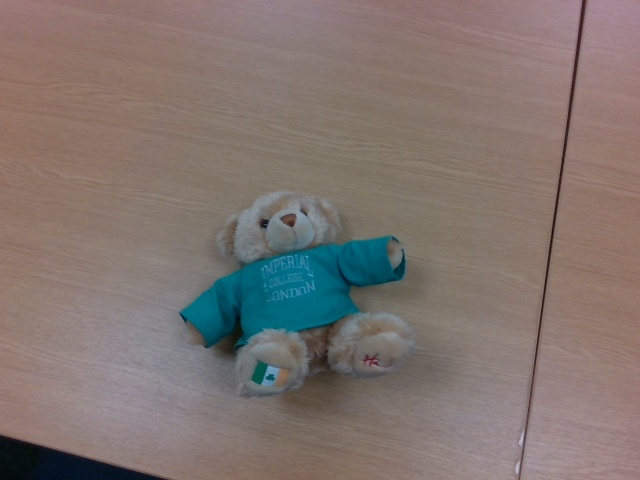teddy: (181, 189, 419, 399)
